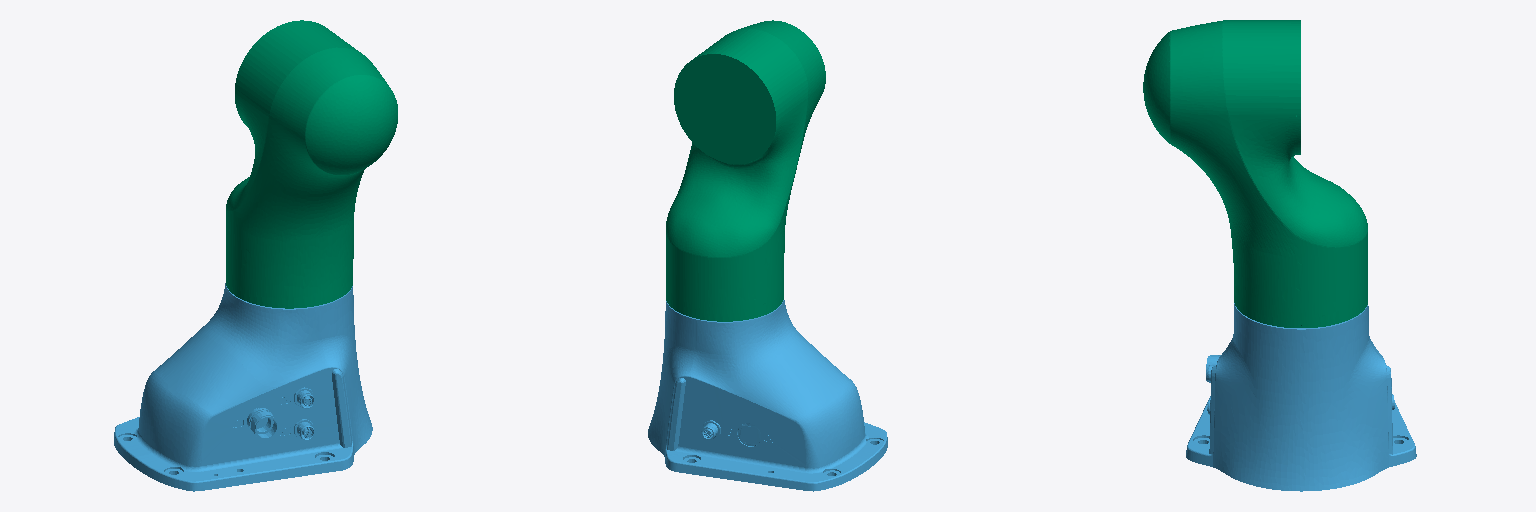
robot.urdf — franka_lnd:
<?xml version="1.0" encoding="utf-8"?>
<!-- ======================================================================= -->
<!-- Copyright 2024 MedCVR Lab                                               -->
<!-- ======================================================================= -->
<!-- This file contains the description of the Franka robot with LND tool.   -->
<!-- Adapted from the publicly available Franka URDF.                        -->
<!-- Franka + LND400006 Tool -->

<!-- ================= -->
<!--       Joints      -->
<!-- ================= -->
<robot name="franka_lnd">

  <joint name="world_base_joint" type="fixed">
    <parent link="world"/>
    <child link="panda_link0"/>
    <origin rpy="0 0 0" xyz="0 0 0"/>
  </joint>

  <joint name="panda_joint1" type="revolute">
    <safety_controller k_position="100.0" k_velocity="40.0" soft_lower_limit="-2.8973" soft_upper_limit="2.8973"/>
    <origin rpy="0 0 0" xyz="0 0 0.333"/>
    <parent link="panda_link0"/>
    <child link="panda_link1"/>
    <axis xyz="0 0 1"/>
    <limit acceleration="15" effort="87" lower="-2.9671" upper="2.9671" velocity="2.5"/>
    <dynamics D="1" K="7000" damping="0.003" friction="0.0" mu_coulomb="0" mu_viscous="16"/>
  </joint>

  <!-- ================= -->
  <!--       Links       -->
  <!-- ================= -->

  <link name="world"/>

  <link name="panda_link0">
    <visual>
      <origin rpy="0 0 0" xyz="0 0 0"/>
      <geometry>
        <mesh filename="package://meshes/dae/link0.obj"/>
      </geometry>
    </visual>
    <inertial>
      <!-- Estimated guesses from CAD -->
      <origin rpy="0 0 0" xyz="-0.041018 -0.00014 0.049974"/>
      <mass value="0.629769"/>
      <inertia ixx="0.00315" ixy="8.2904E-07" ixz="0.00015" iyy="0.00388" iyz="8.2299E-06" izz="0.004285"/>
    </inertial>
  </link>
  <link name="panda_link1">
    <visual>
      <origin rpy="0 0 0" xyz="0 0 0"/>
      <geometry>
        <mesh filename="package://meshes/dae/link1.obj"/>
      </geometry>
    </visual>
    <inertial>
      <origin rpy="0 0 0" xyz="0.003875 0.002081 -0.04762"/>
      <mass value="4.970684"/>
      <inertia ixx="0.70337" ixy="-0.00013900" ixz="0.0067720" iyy="0.70661" iyz="0.019169" izz="0.0091170"/>
    </inertial>
  </link>

</robot>

--- Render facts (derived) ---
The picture shows the robot from 3 angles, left to right: view 1: azimuth 30°, elevation 25°; view 2: azimuth 150°, elevation 25°; view 3: azimuth 270°, elevation 25°; orthographic projection.
Robot: franka_lnd — 3 links, 2 joints (1 revolute, 1 fixed); root link world; default pose: every joint at zero.
Links seen in each view (by area): view 1: panda_link0, panda_link1; view 2: panda_link1, panda_link0; view 3: panda_link1, panda_link0.
Link boxes in pixels (x1,y1,x2,y2): panda_link0: (114, 283, 372, 491); panda_link1: (226, 20, 397, 308); panda_link1: (666, 20, 825, 321); panda_link0: (648, 300, 887, 491); panda_link1: (1143, 20, 1367, 327); panda_link0: (1186, 303, 1416, 491).
Size in the robot's own frame: 0.2256 by 0.224 by 0.388 metres.
2 mesh visuals loaded from 2 distinct referenced files (2 OBJ).